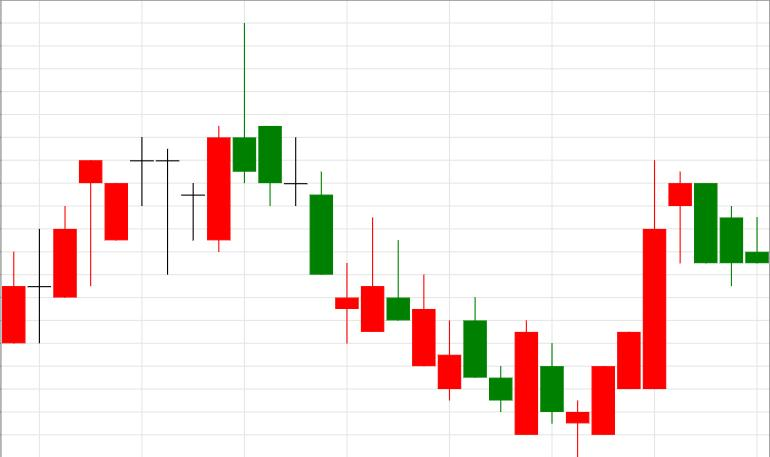bullish_engulfing_rise: (362, 218, 537, 437)
